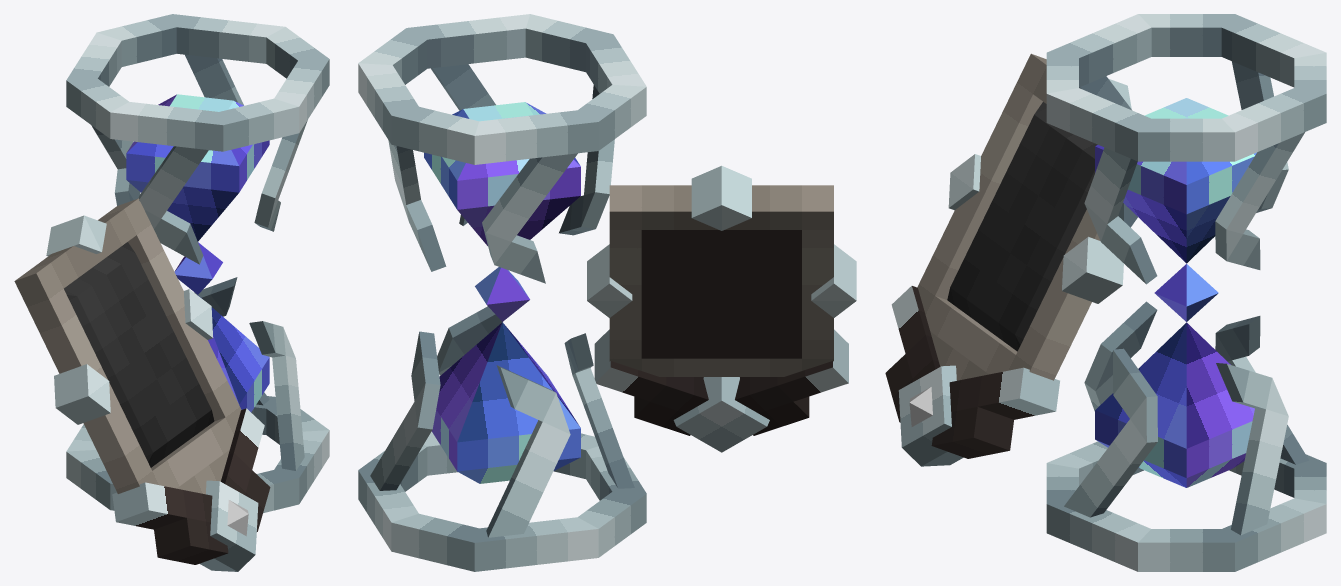
Rendered from boss_trophy_council_inventory.obj.
The picture shows the model from 3 angles, left to right: view 1: azimuth 30°, elevation 25°; view 2: azimuth 150°, elevation 25°; view 3: azimuth 270°, elevation 25°; orthographic projection. The views are drawn at different scales.
Parts seen in each view (by area): view 1: SLATE_Cube.018, CRYSTAL_OUTER.001_Cube.021, CRYSTAL_OUTER_Cube.017, CRYSTAL_MIDDLE_Cube.008; view 2: SLATE_Cube.018, CRYSTAL_OUTER_Cube.017, CRYSTAL_OUTER.001_Cube.021, CRYSTAL_MIDDLE_Cube.008; view 3: SLATE_Cube.018, CRYSTAL_OUTER_Cube.017, CRYSTAL_OUTER.001_Cube.021, CRYSTAL_MIDDLE_Cube.008.
Part boxes in pixels (<box>): SLATE_Cube.018: <box>14,198,270,571</box>; CRYSTAL_OUTER.001_Cube.021: <box>66,14,329,264</box>; CRYSTAL_OUTER_Cube.017: <box>66,277,329,513</box>; CRYSTAL_MIDDLE_Cube.008: <box>174,242,222,294</box>; SLATE_Cube.018: <box>587,165,856,452</box>; CRYSTAL_OUTER_Cube.017: <box>358,306,646,571</box>; CRYSTAL_OUTER.001_Cube.021: <box>358,14,646,283</box>; CRYSTAL_MIDDLE_Cube.008: <box>475,267,529,321</box>; SLATE_Cube.018: <box>885,53,1131,466</box>; CRYSTAL_OUTER_Cube.017: <box>1046,301,1326,571</box>; CRYSTAL_OUTER.001_Cube.021: <box>1046,14,1326,284</box>; CRYSTAL_MIDDLE_Cube.008: <box>1154,264,1218,321</box>.
Size of the model in its own units: 0.8698 by 0.943 by 0.8527.
